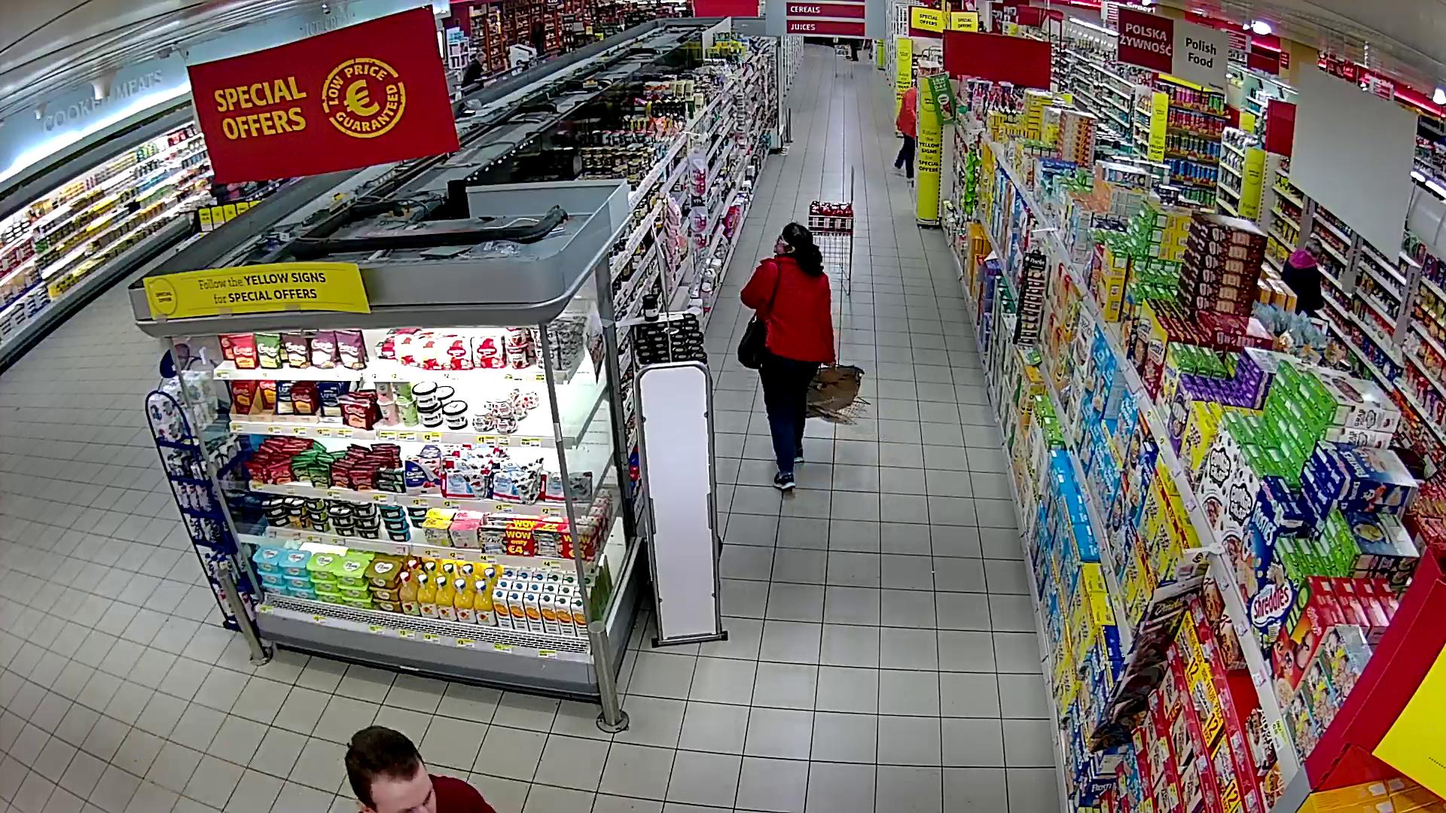backpack-or-handbag: (738, 315, 770, 369)
filled-basket: (807, 358, 870, 425)
person: (739, 221, 837, 490)
person-with-basket-trolly-and-backpack-handbag: (738, 219, 870, 490)
